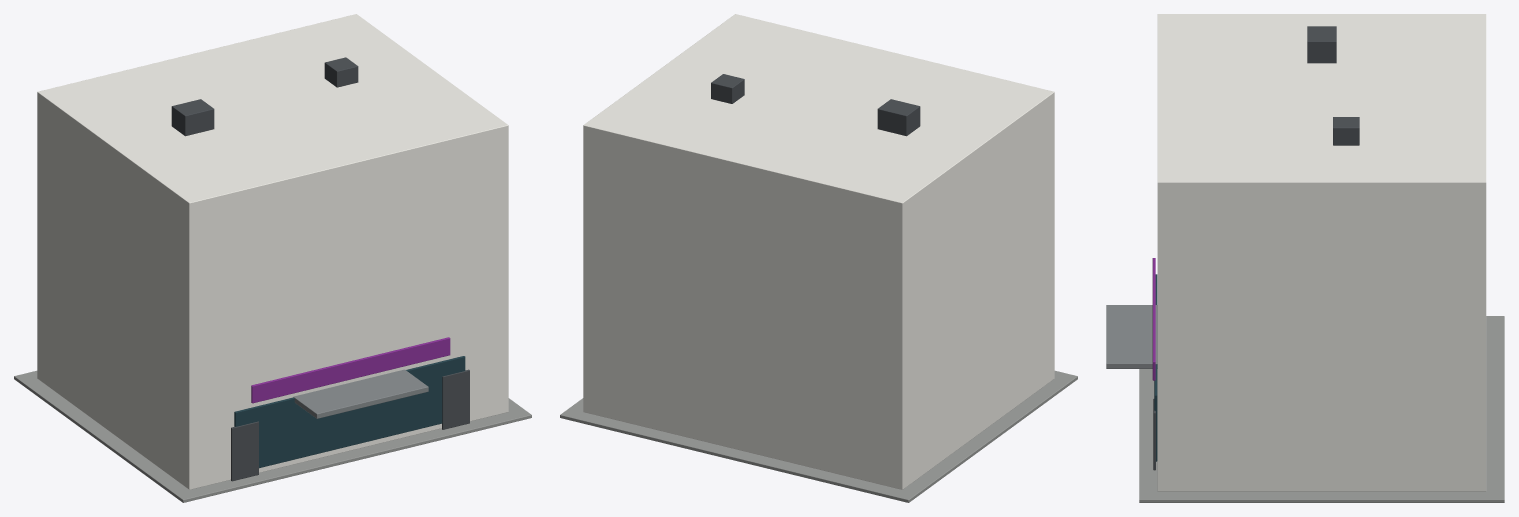
File: Building_Commercial_016.glb
The picture shows the model from 3 angles, left to right: view 1: azimuth 30°, elevation 25°; view 2: azimuth 150°, elevation 25°; view 3: azimuth 270°, elevation 25°; orthographic projection. The views are drawn at different scales.
Visible parts, largest first — view 1: Building_Commercial_016; view 2: Building_Commercial_016; view 3: Building_Commercial_016.
Part boxes in pixels (x1=…): Building_Commercial_016: x1=14, y1=14, x2=531, y2=502; Building_Commercial_016: x1=560, y1=14, x2=1077, y2=502; Building_Commercial_016: x1=1106, y1=14, x2=1504, y2=502.
Bounding box in the file's own units: 17.81 × 15.16 × 16.31.
